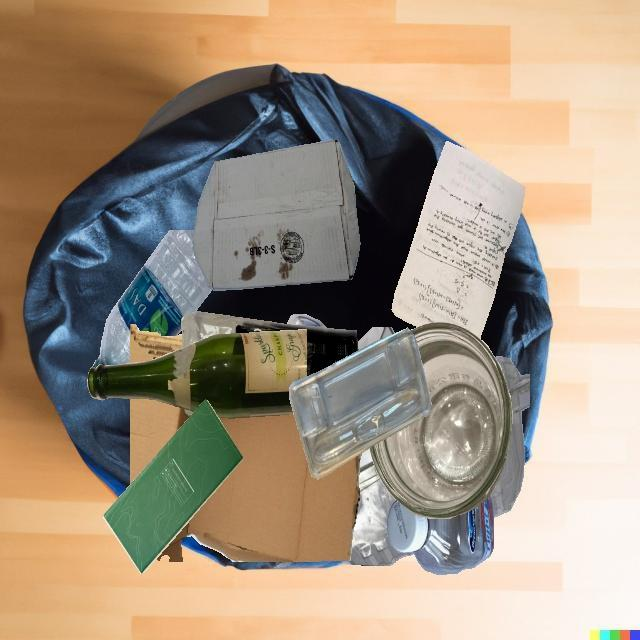cardboard: (192, 140, 360, 291), (212, 414, 362, 562), (130, 419, 212, 526)
glass: (369, 322, 512, 519), (87, 329, 307, 418)
paper: (391, 141, 525, 338), (103, 399, 243, 574), (357, 327, 395, 351)
plastic: (289, 328, 431, 479), (92, 230, 212, 368), (181, 311, 358, 376), (386, 496, 494, 575), (347, 447, 414, 566), (489, 356, 530, 517), (287, 314, 326, 328)
